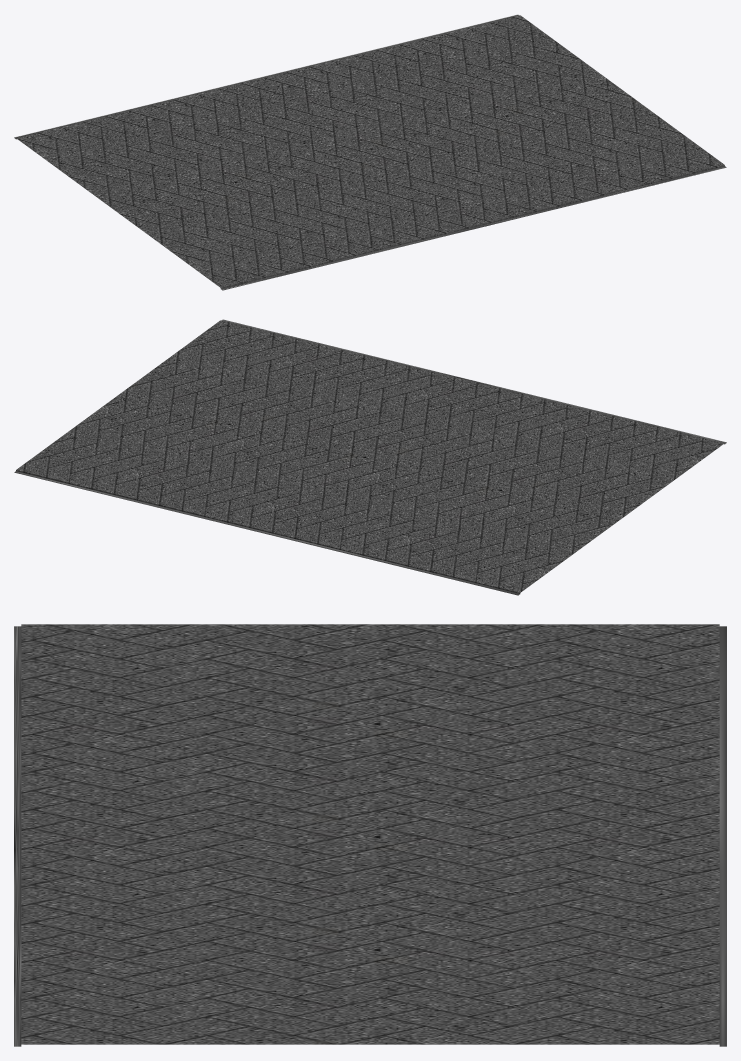
Rendered from calleSinRejillas.glb.
3 views of the same model, one above another, from view 1: azimuth 30°, elevation 25°; view 2: azimuth 150°, elevation 25°; view 3: azimuth 270°, elevation 25° (orthographic). The views are drawn at different scales.
Parts seen in each view (by area): view 1: Plane; view 2: Plane; view 3: Plane.
Part boxes in pixels (x1=…): Plane: x1=14, y1=14, x2=726, y2=290; Plane: x1=14, y1=319, x2=726, y2=595; Plane: x1=14, y1=624, x2=726, y2=1046.
Bounding box in the file's own units: 2 × 0.00429 × 1.43.
Materials: 1 (1 with a texture image).
